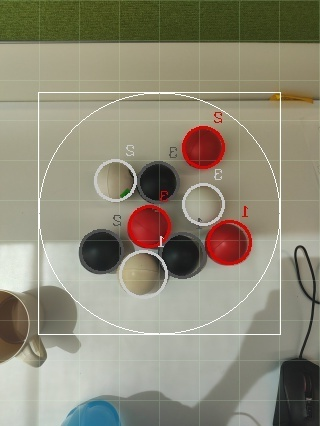Pelota blanca: (117, 249, 169, 296), (0, 289, 31, 365), (181, 180, 228, 227), (93, 158, 140, 203), (39, 284, 79, 336), (21, 334, 49, 368), (223, 411, 265, 425)
Pelota negra: (274, 358, 320, 425), (162, 230, 207, 280), (77, 228, 124, 275), (138, 158, 183, 203), (61, 398, 121, 425)
Pelota roja: (205, 217, 254, 267), (181, 124, 228, 171), (127, 204, 175, 248)
